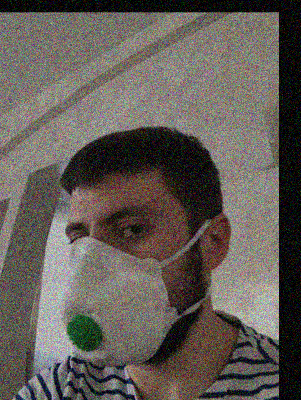with_mask: (58, 192, 190, 368)
